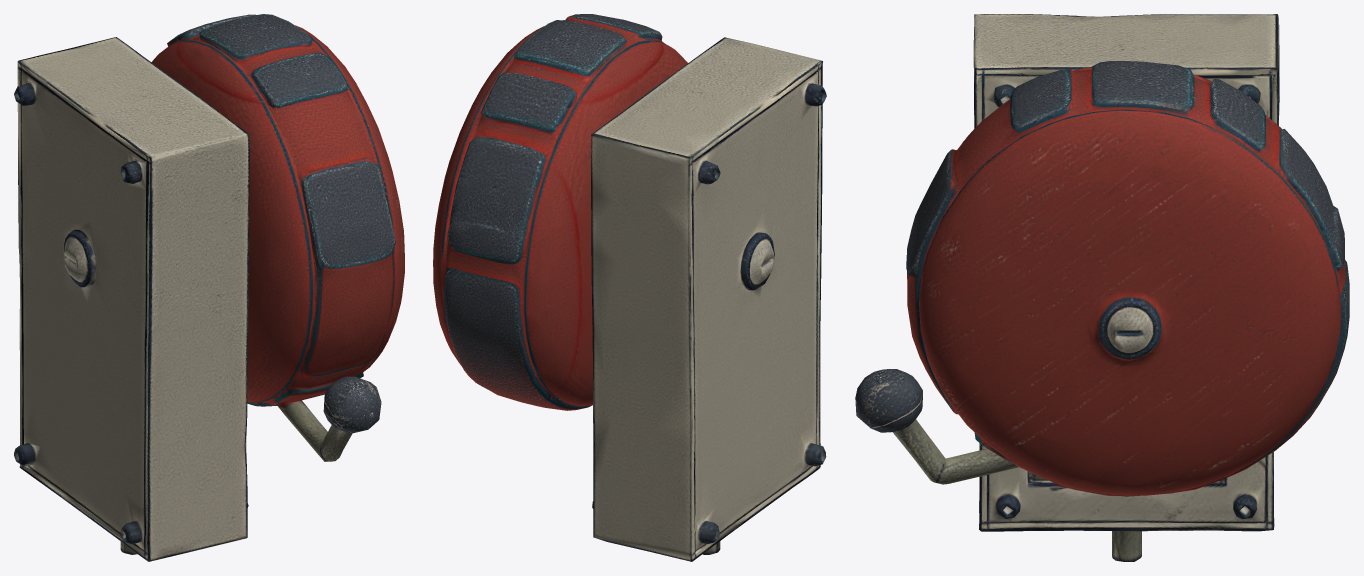
The model's file is OfficeDeskBell.fbx.
3 views of the same model, side by side, from view 1: azimuth 30°, elevation 25°; view 2: azimuth 150°, elevation 25°; view 3: azimuth 270°, elevation 25° (orthographic). The views are drawn at different scales.
Visible parts, largest first — view 1: tripo_node_eabf6e9f-ac97-4f1c-bab0-f87150d7c7ee; view 2: tripo_node_eabf6e9f-ac97-4f1c-bab0-f87150d7c7ee; view 3: tripo_node_eabf6e9f-ac97-4f1c-bab0-f87150d7c7ee.
Part boxes in pixels (bbox=[...]): tripo_node_eabf6e9f-ac97-4f1c-bab0-f87150d7c7ee: bbox=[14, 14, 404, 561]; tripo_node_eabf6e9f-ac97-4f1c-bab0-f87150d7c7ee: bbox=[433, 14, 826, 561]; tripo_node_eabf6e9f-ac97-4f1c-bab0-f87150d7c7ee: bbox=[855, 14, 1349, 561].
Size of the model in its own units: 61.53 by 100 by 81.05.
1 material, 1 textured.
